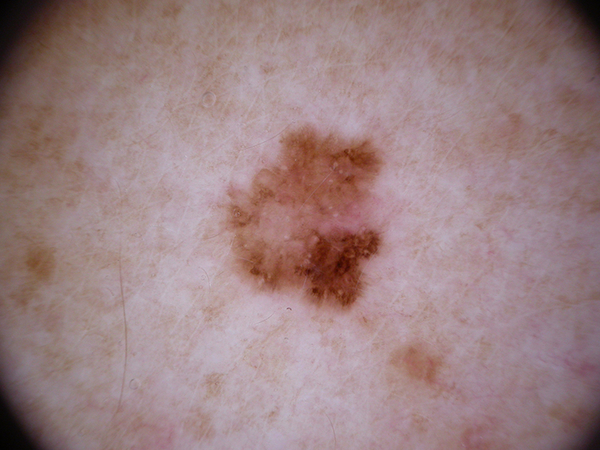Detected Lesion: (216, 113, 389, 315)
